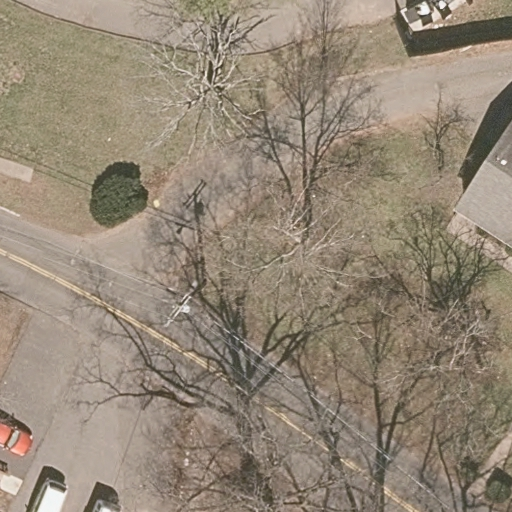DT: (161, 285, 203, 329)
